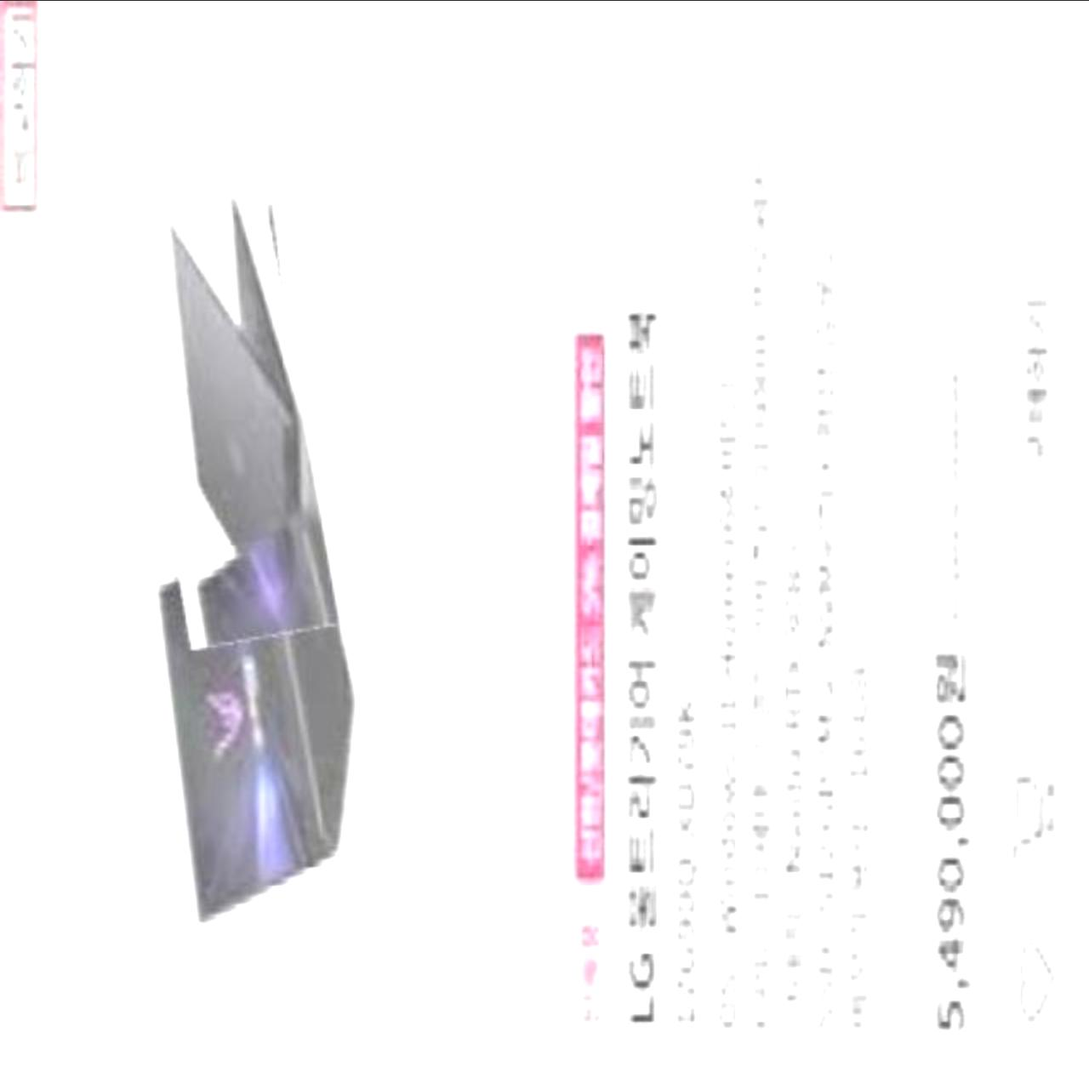laptop: (118, 315, 392, 992), (133, 186, 320, 644)
